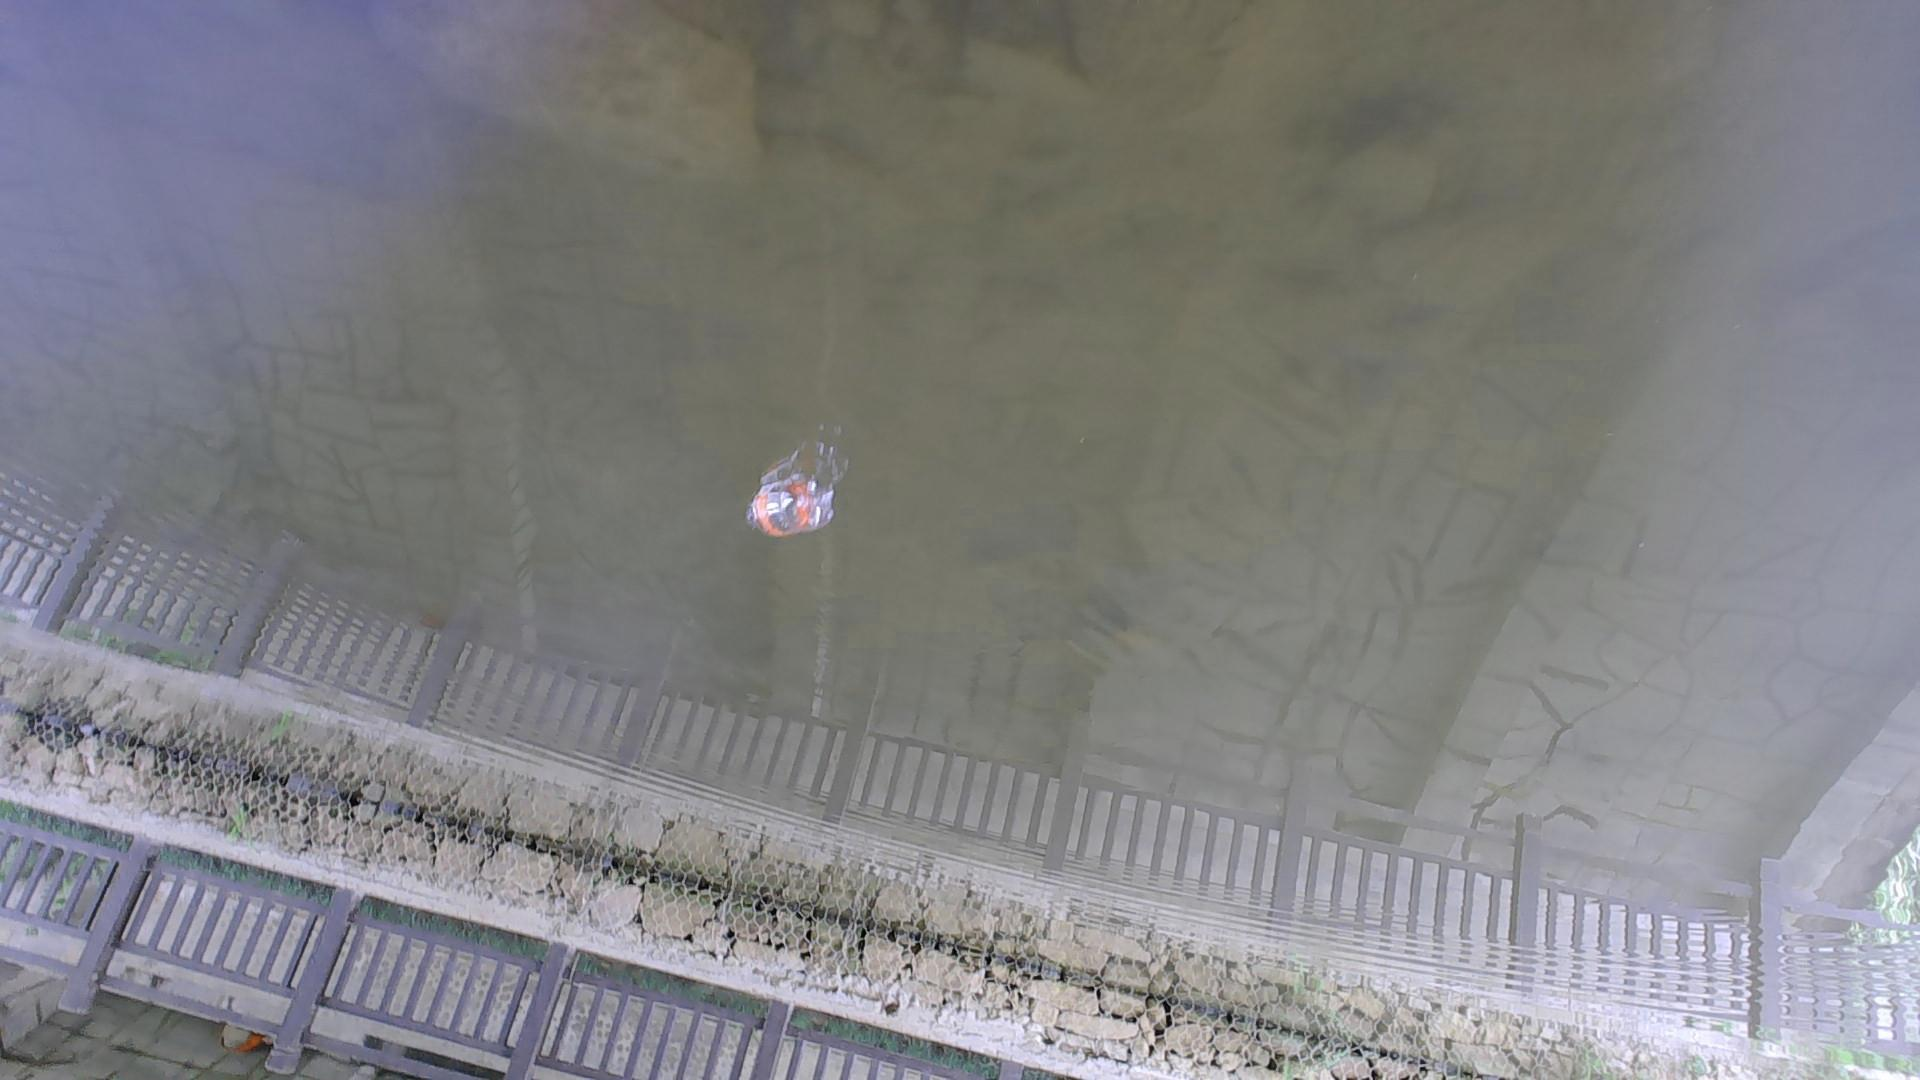Plastic: (738, 475, 839, 543)
